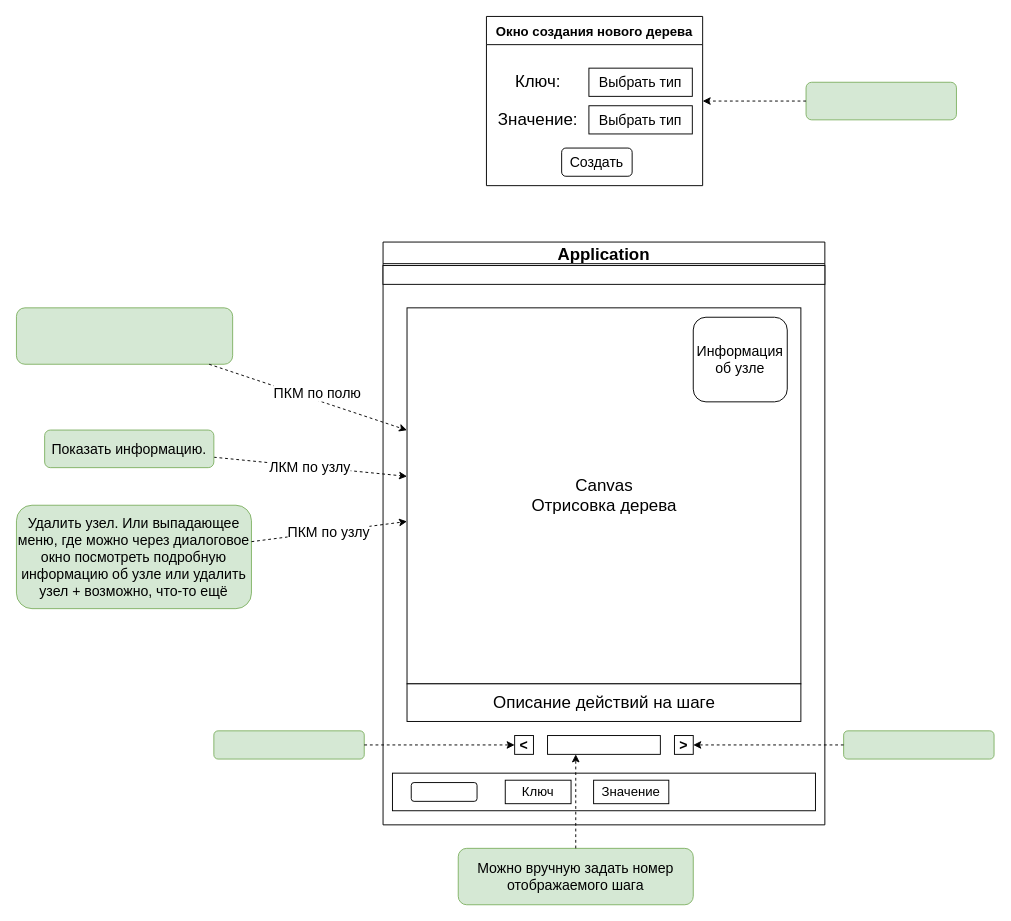
The diagram is 1011 pixels wide and 921 high, and some of its shapes have lost their labels. The shapes that lost their labels are listed below. From the top down, each one's centre as x and y in pixels, then its label:
At pixel 880 100: "Тип окна: диалоговое".
At pixel 603 274: "Menu Edit About".
At pixel 124 335: "Выпадающее меню: очистить и поиск элемениа".
At pixel 288 744: "Предыдущий шаг".
At pixel 603 744: "Номер шага".
At pixel 918 744: "Следующий шаг".
At pixel 443 791: "Добавить".
